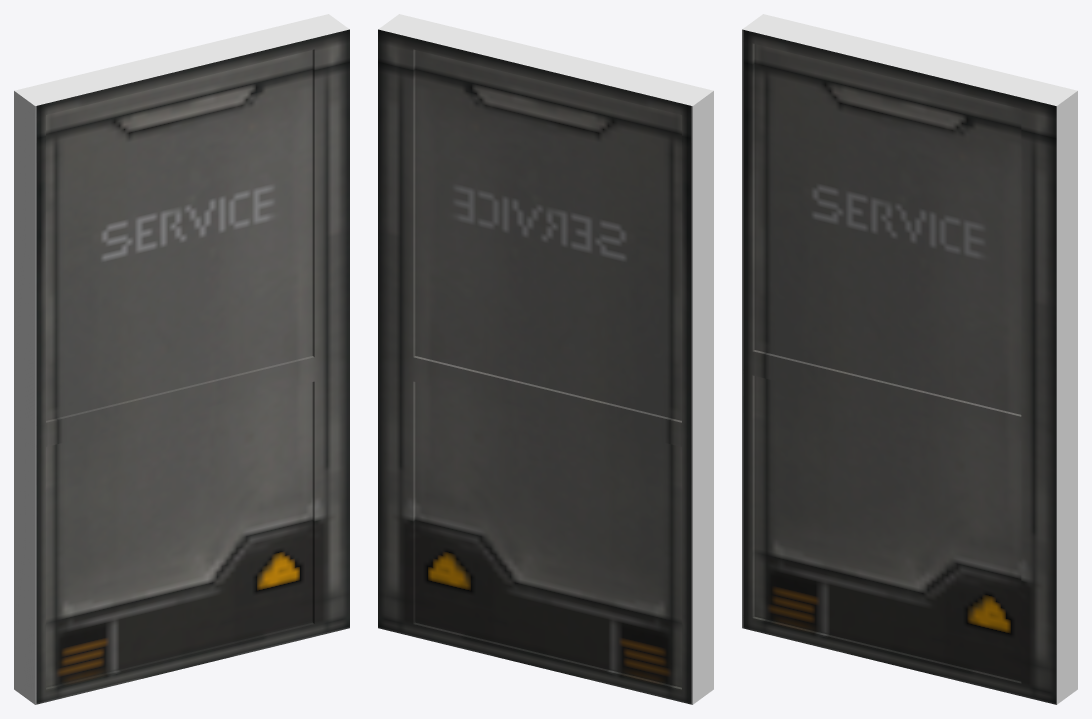
Rendered from Arquitetura_-_MODULES.fbx.
3 views of the same model, side by side, from view 1: azimuth 30°, elevation 25°; view 2: azimuth 150°, elevation 25°; view 3: azimuth 330°, elevation 25° (orthographic).
Parts seen in each view (by area): view 1: SM_BLD_DOOR_01; view 2: SM_BLD_DOOR_01; view 3: SM_BLD_DOOR_01.
Boxes of the visible parts, x1,y1,x2,y2 form: SM_BLD_DOOR_01: (14,14,349,704); SM_BLD_DOOR_01: (378,14,713,704); SM_BLD_DOOR_01: (742,14,1077,704).
Size of the model in its own units: 1.29 by 2.34 by 0.15.
